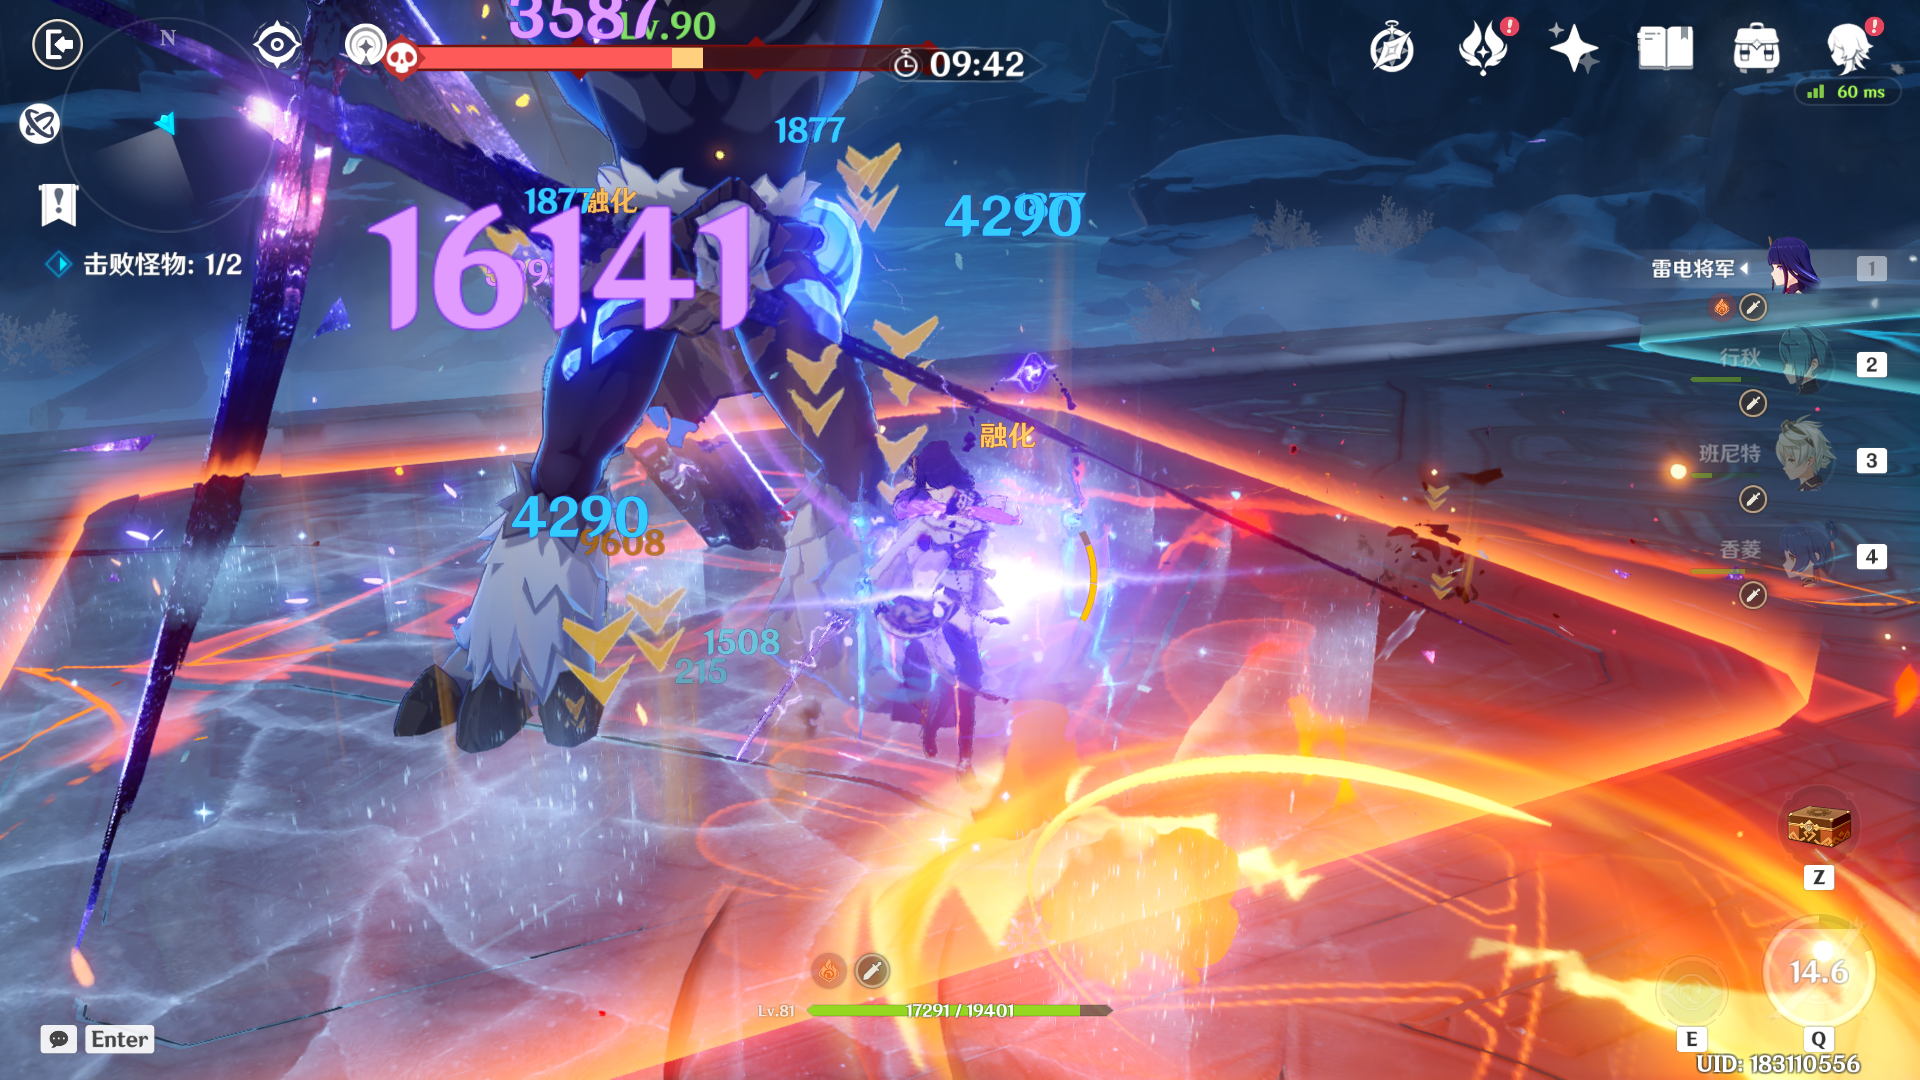bosshili: (307, 1, 1000, 791)
character: (811, 419, 1054, 789)
